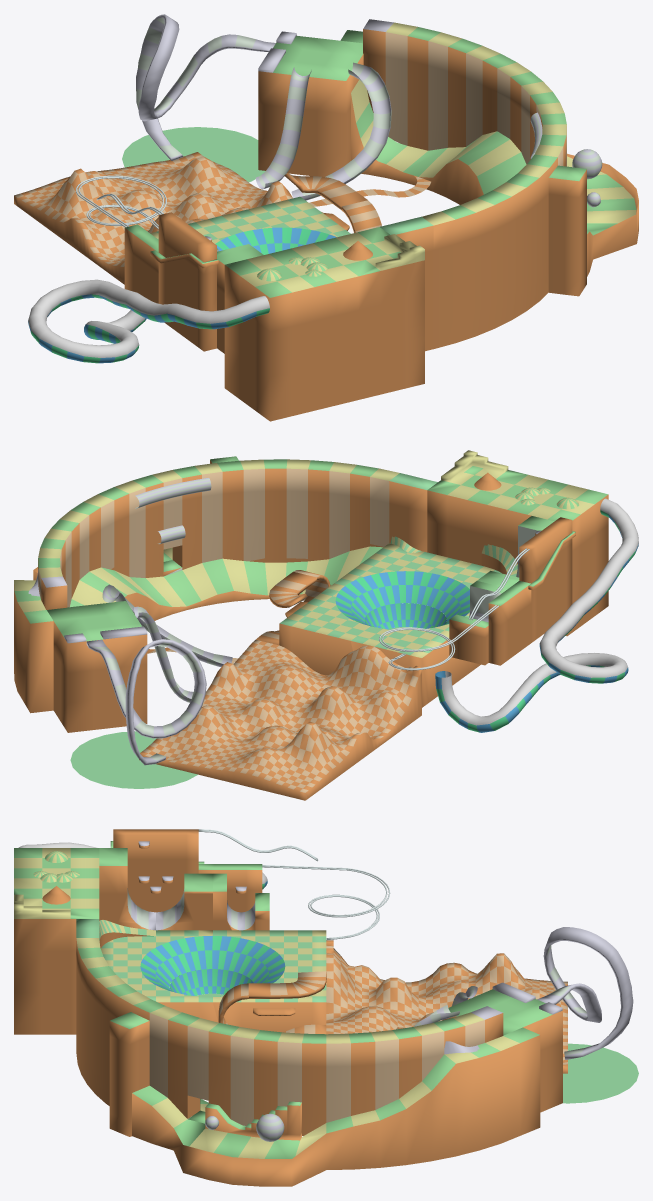
File: practice01.fbx
The picture shows the model from 3 angles, top to bottom: view 1: azimuth 30°, elevation 25°; view 2: azimuth 150°, elevation 25°; view 3: azimuth 270°, elevation 25°; orthographic projection. The views are drawn at different scales.
Visible parts, largest first — view 1: 0002_object_0003D448, 0001_object_00032BEC, 0000_object_00022DFC, 0003_object_00044728; view 2: 0002_object_0003D448, 0000_object_00022DFC, 0001_object_00032BEC, 0003_object_00044728; view 3: 0002_object_0003D448, 0000_object_00022DFC, 0001_object_00032BEC.
Boxes of the visible parts, x1,y1,x2,y2 form: 0002_object_0003D448: (255, 19, 638, 348); 0001_object_00032BEC: (76, 175, 424, 421); 0000_object_00022DFC: (14, 14, 433, 351); 0003_object_00044728: (28, 279, 269, 363); 0002_object_0003D448: (14, 456, 399, 732); 0000_object_00022DFC: (70, 473, 517, 800); 0001_object_00032BEC: (379, 450, 608, 670); 0003_object_00044728: (435, 498, 638, 732); 0002_object_0003D448: (76, 938, 562, 1186); 0000_object_00022DFC: (76, 919, 638, 1103); 0001_object_00032BEC: (14, 829, 390, 1034).
Size of the model in its own units: 23313 by 5983 by 22000.
